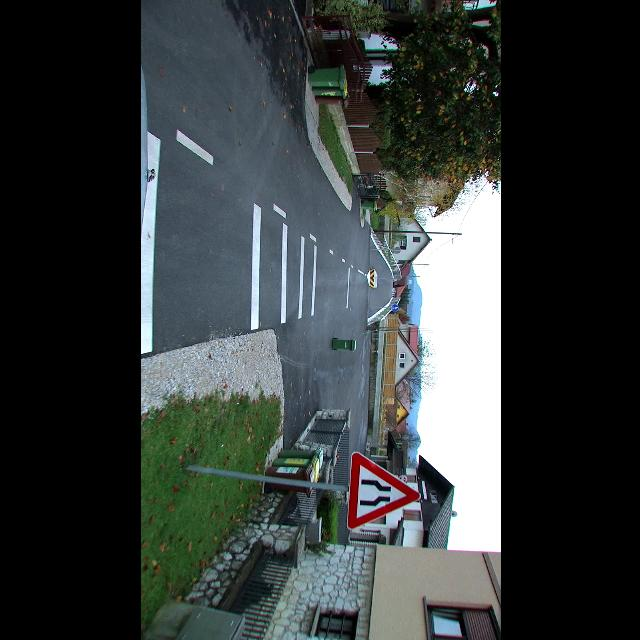Round: (390, 304, 398, 312)
Triangle: (345, 452, 419, 530)
